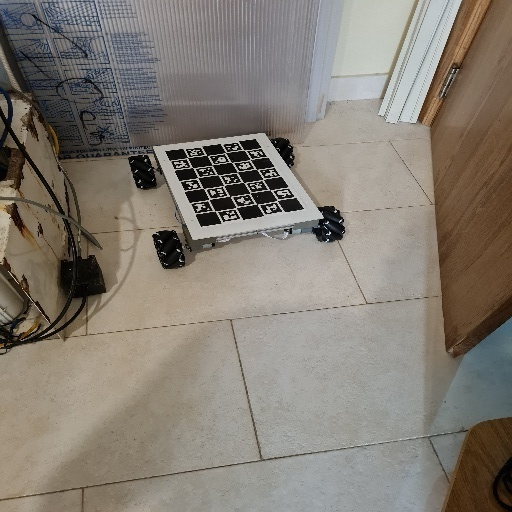Omniwheel: (127, 131, 351, 270)
